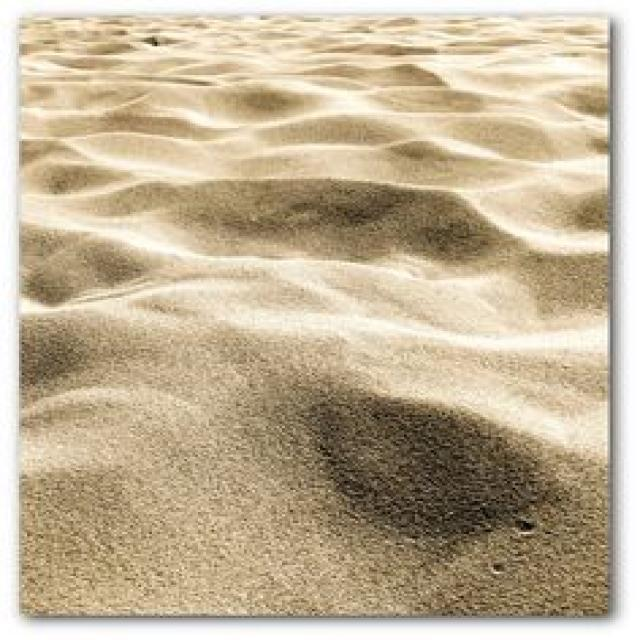white-sand: (20, 14, 614, 618)
